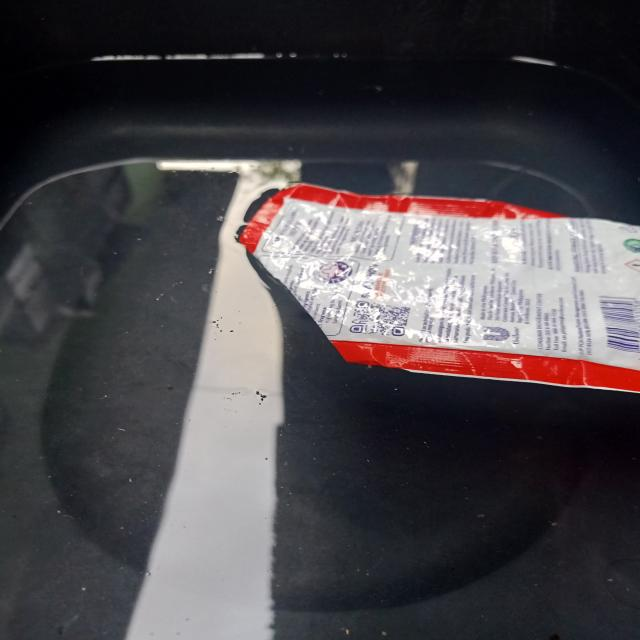Plastic Wrapper: (224, 167, 640, 397)
